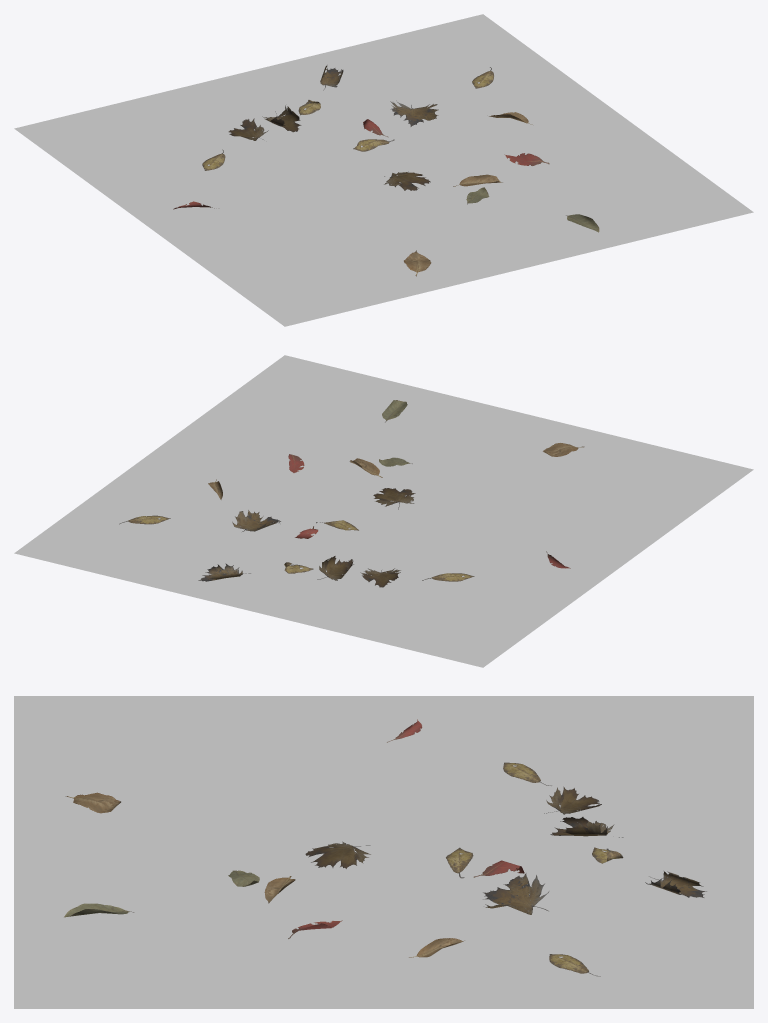
The model's file is Leaves5.FBX.
3 renders of one model, top to bottom at view 1: azimuth 30°, elevation 25°; view 2: azimuth 150°, elevation 25°; view 3: azimuth 270°, elevation 25°, orthographic. The views are drawn at different scales.
Parts seen in each view (by area): view 1: Leaves5_Decal, Leaves5; view 2: Leaves5_Decal, Leaves5; view 3: Leaves5_Decal, Leaves5.
Boxes of the visible parts, box(x1,y1,x2,y2) form: Leaves5_Decal: box(14, 14, 753, 326); Leaves5: box(173, 65, 599, 276); Leaves5_Decal: box(14, 355, 753, 667); Leaves5: box(119, 400, 584, 587); Leaves5_Decal: box(14, 696, 753, 1008); Leaves5: box(64, 719, 706, 976).
Size of the model in its own units: 1.1 by 0.0363 by 1.1.
